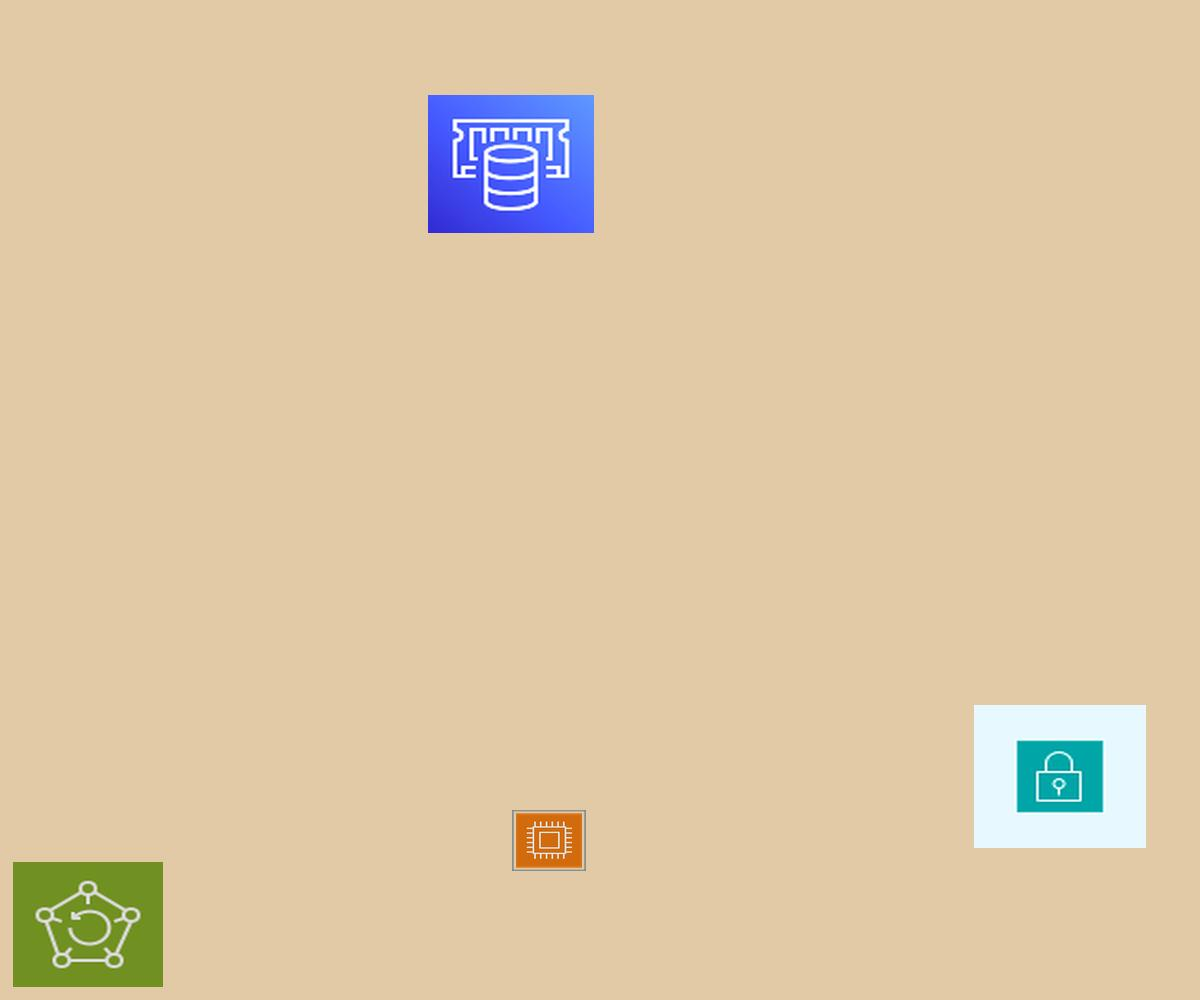AWS-Backup: (13, 862, 163, 987)
AWS-Category_Compute: (512, 810, 586, 871)
AWS-ElastiCache: (428, 95, 594, 233)
AWS-Private-subnet: (974, 705, 1146, 848)
